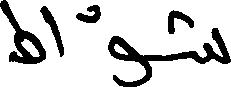X: (0, 0, 40, 68), (109, 31, 151, 86), (193, 16, 230, 68), (42, 1, 63, 65)
